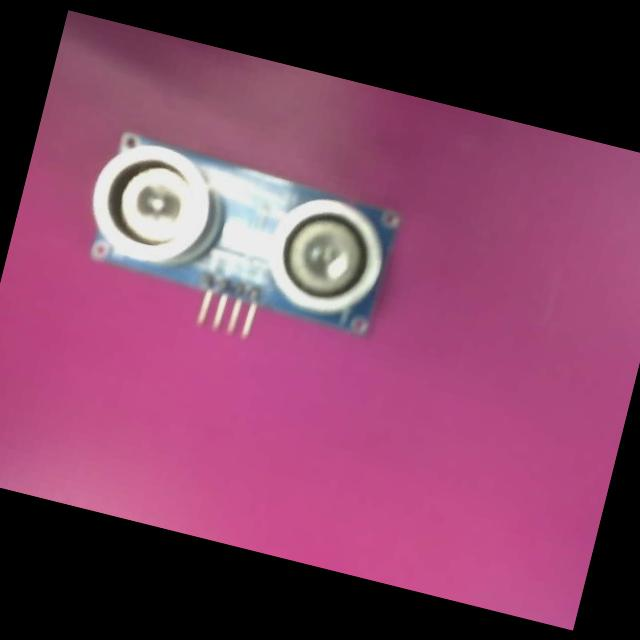ultrasonic_hc-sr04: (67, 127, 406, 368), (66, 127, 404, 368)
